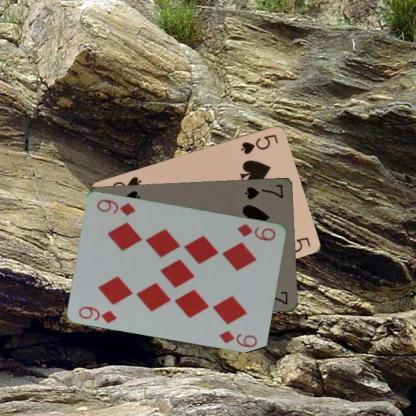5s: (238, 131, 280, 156)
7s: (242, 182, 285, 200)
9d: (76, 303, 118, 325), (234, 221, 276, 242)
